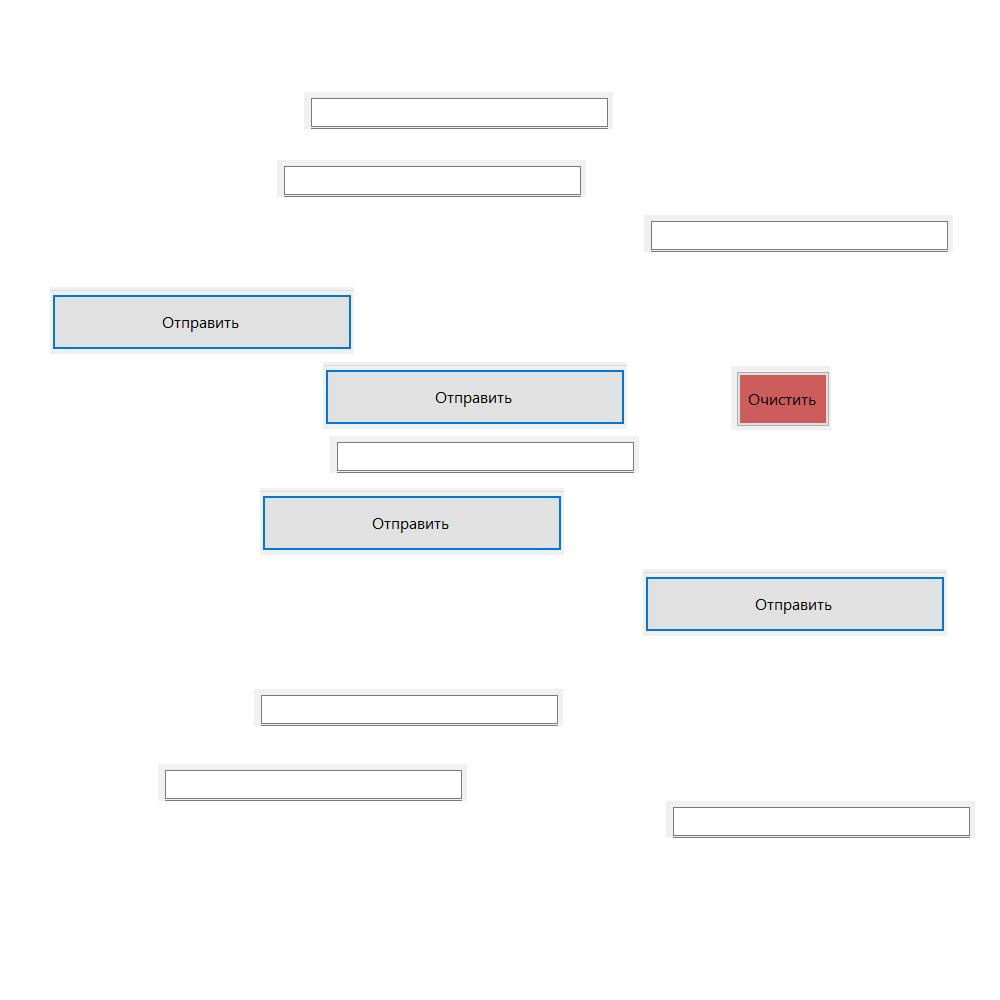Button: (323, 362, 627, 429), (643, 569, 947, 636), (50, 287, 354, 354), (260, 488, 564, 555), (731, 366, 831, 430)
EditText-: (644, 215, 953, 252), (254, 689, 563, 726), (330, 436, 639, 473), (158, 764, 467, 801), (277, 160, 586, 197), (304, 92, 613, 129), (666, 801, 975, 838)
